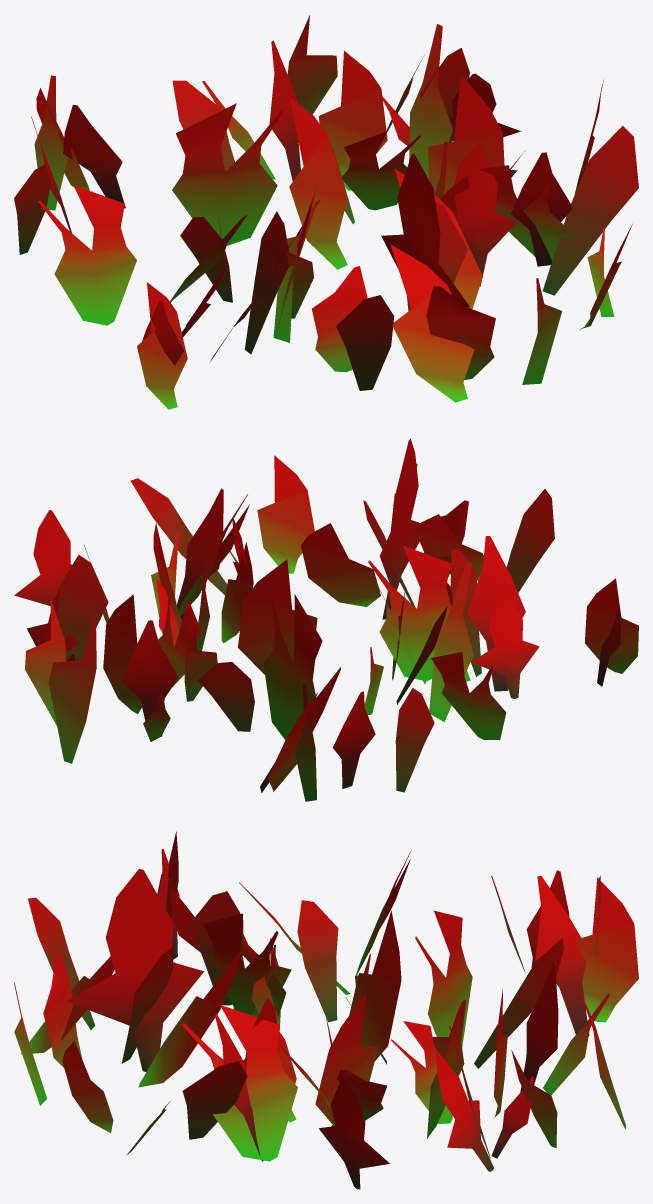
The model's file is rbptq_Var2_LOD0.fbx.
3 renders of one model, top to bottom at view 1: azimuth 30°, elevation 25°; view 2: azimuth 150°, elevation 25°; view 3: azimuth 270°, elevation 25°, orthographic. The views are drawn at different scales.
Visible parts, largest first — view 1: _2b47_Var2_LOD0; view 2: _2b47_Var2_LOD0; view 3: _2b47_Var2_LOD0.
Part boxes in pixels (left/top/right/bottom): _2b47_Var2_LOD0: left=14, top=15, right=638, bottom=409; _2b47_Var2_LOD0: left=14, top=438, right=638, bottom=801; _2b47_Var2_LOD0: left=14, top=831, right=638, bottom=1189.
Bounding box in the file's own units: 96.81 × 33.71 × 94.54.
